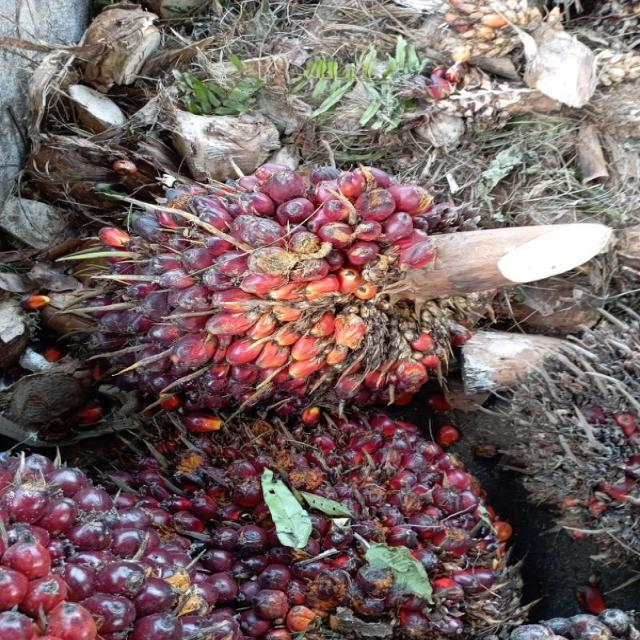fraksi 1: (84, 415, 515, 640)
fraksi 3: (67, 171, 469, 401)
